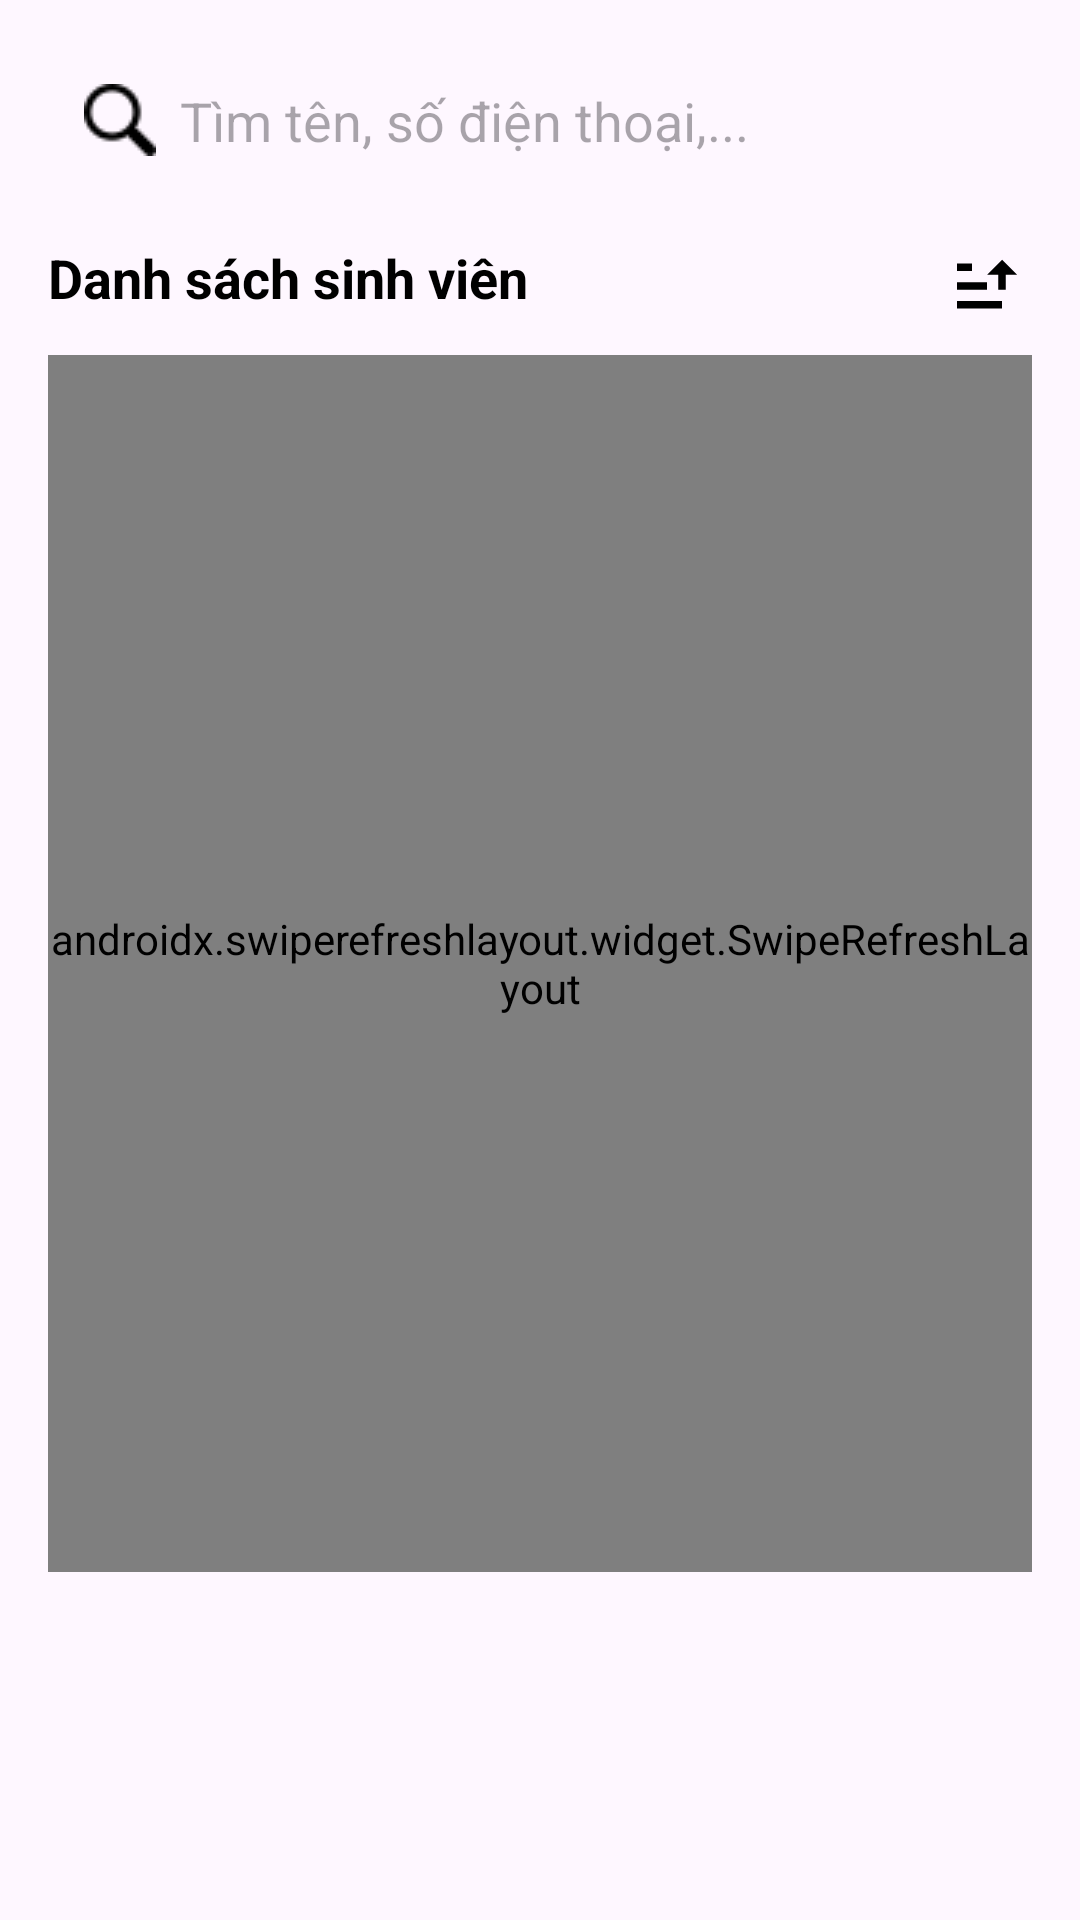

Named icons in this screenshot (1080*1920) and their centers, (x,y):
Sắp xếp: (987,284)
